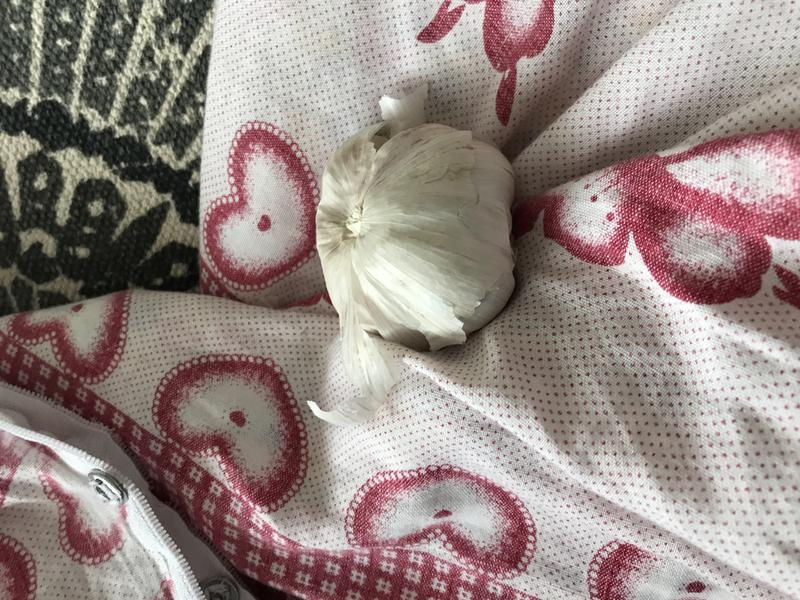garlic: (305, 110, 530, 365)
